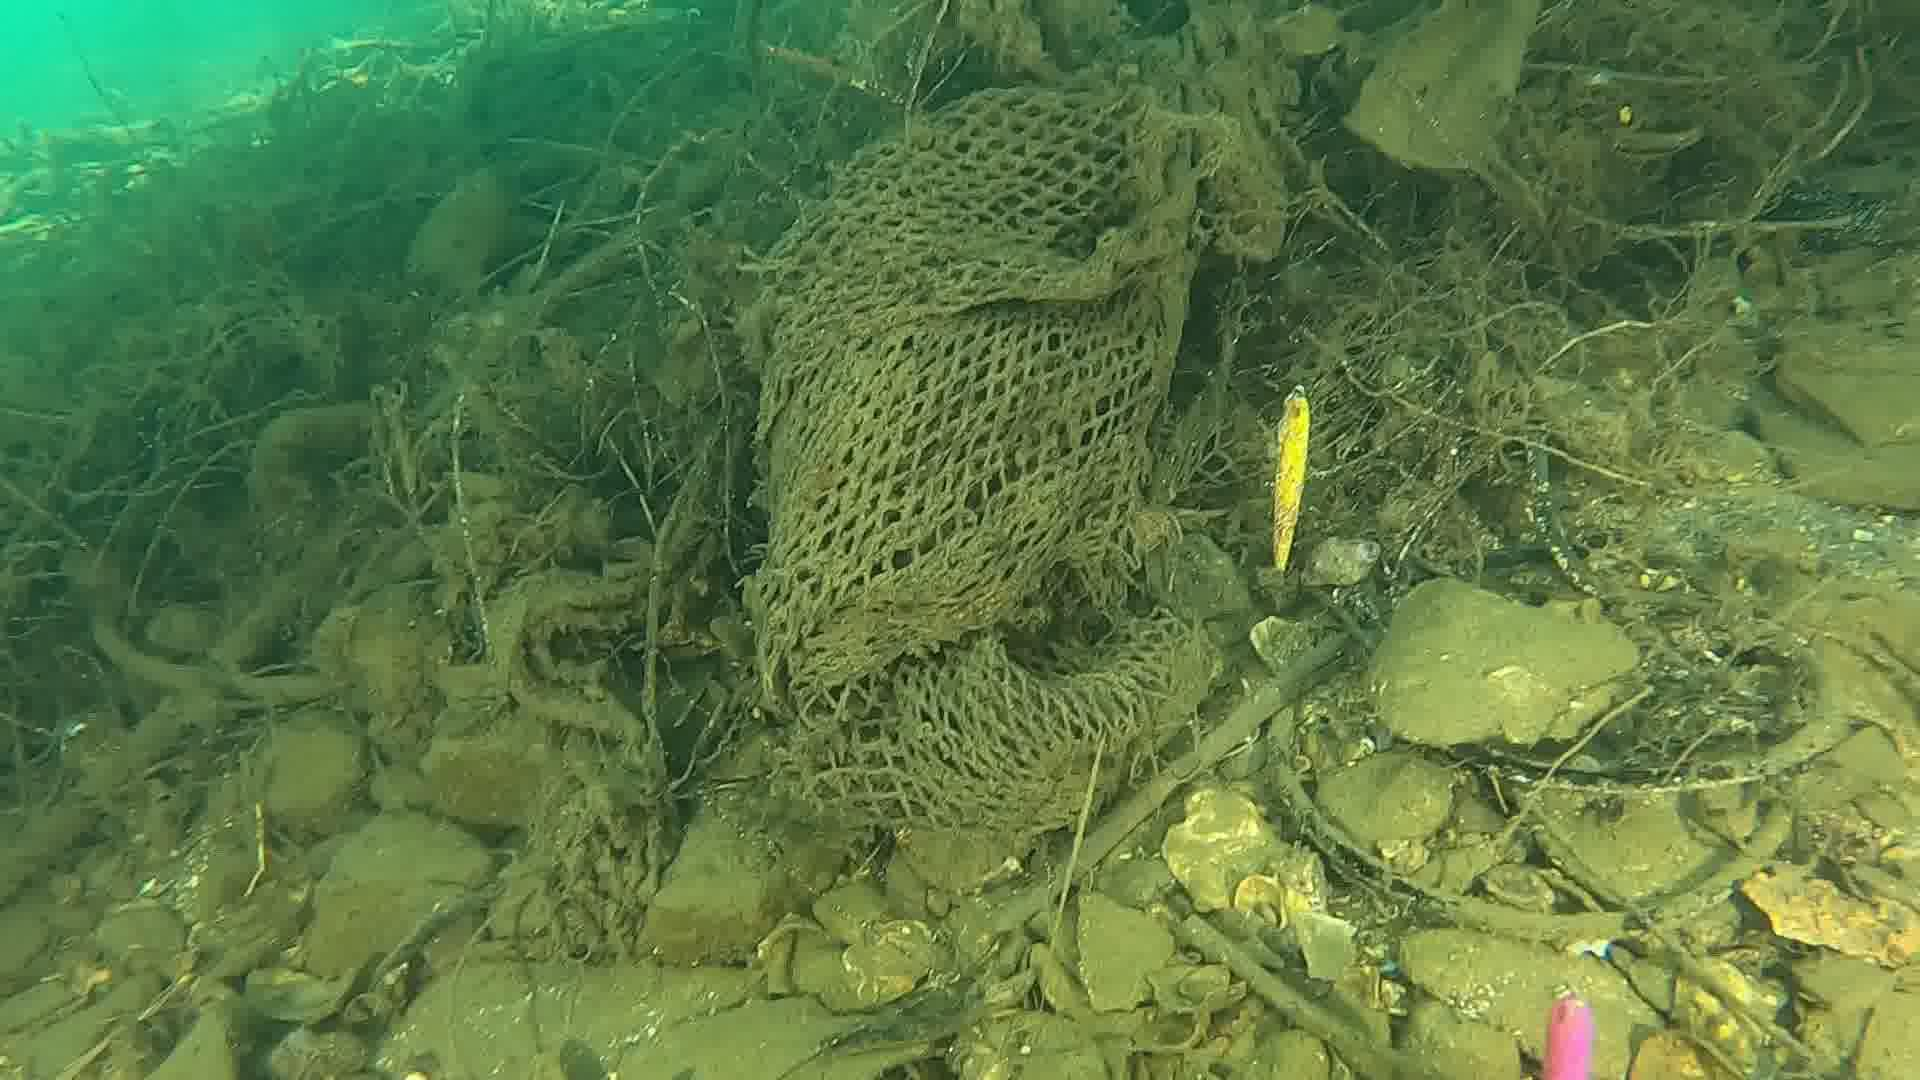fish net: (742, 83, 1197, 835)
